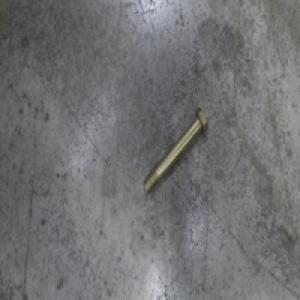Bolt: (142, 106, 209, 197)
